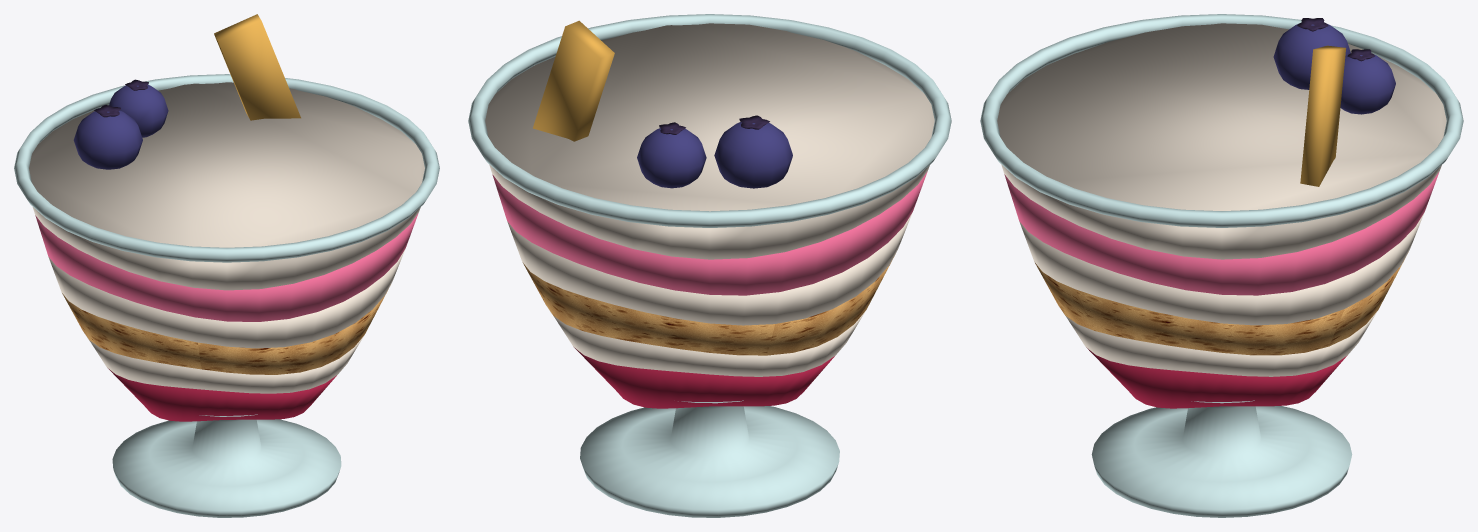
The model's file is parfait.glb.
3 views of the same model, side by side, from view 1: azimuth 30°, elevation 25°; view 2: azimuth 150°, elevation 25°; view 3: azimuth 270°, elevation 25° (orthographic). The views are drawn at different scales.
Parts seen in each view (by area): view 1: parfait; view 2: parfait; view 3: parfait.
Boxes of the visible parts, <box> form: parfait: <box>14,14,439,517</box>; parfait: <box>468,14,951,517</box>; parfait: <box>980,14,1463,517</box>.
Bounding box in the file's own units: 2 × 2.08 × 2.
8 materials, 1 textured.
